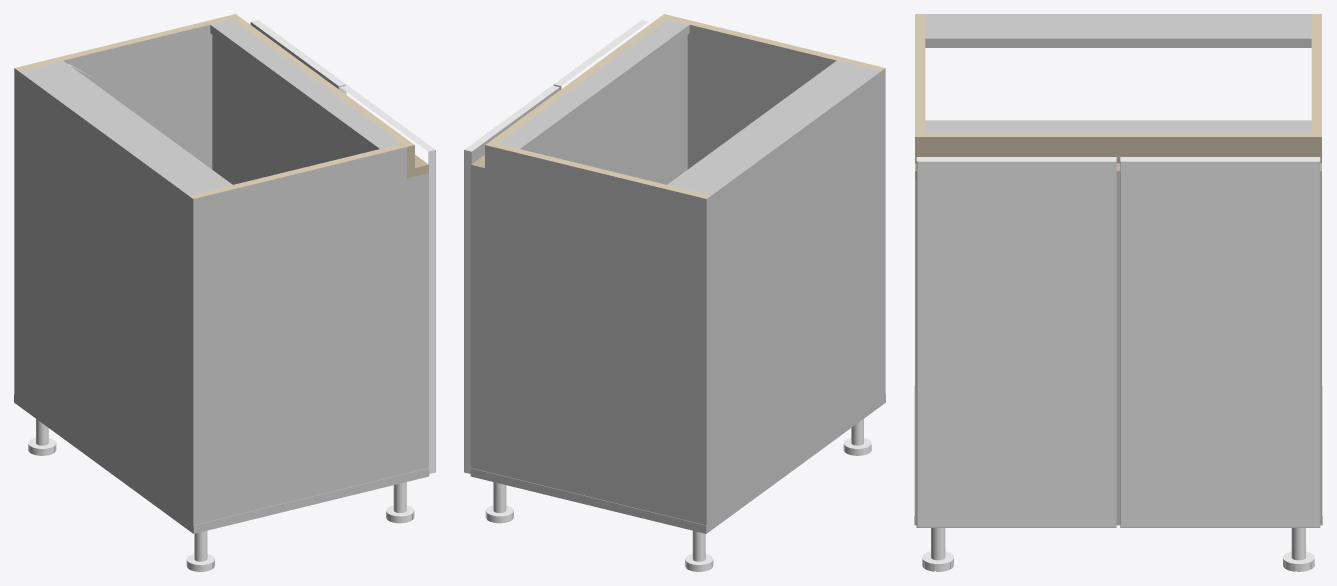
3 views of the same model, side by side, from view 1: azimuth 30°, elevation 25°; view 2: azimuth 150°, elevation 25°; view 3: azimuth 270°, elevation 25° (orthographic). The views are drawn at different scales.
Parts seen in each view (by area): view 1: Model; view 2: Model; view 3: Model.
Part boxes in pixels (x1,y1,x2,y2): Model: (14,14,435,571); Model: (464,14,885,571); Model: (914,14,1322,571).
Bounding box in the file's own units: 550 × 817 × 702.
